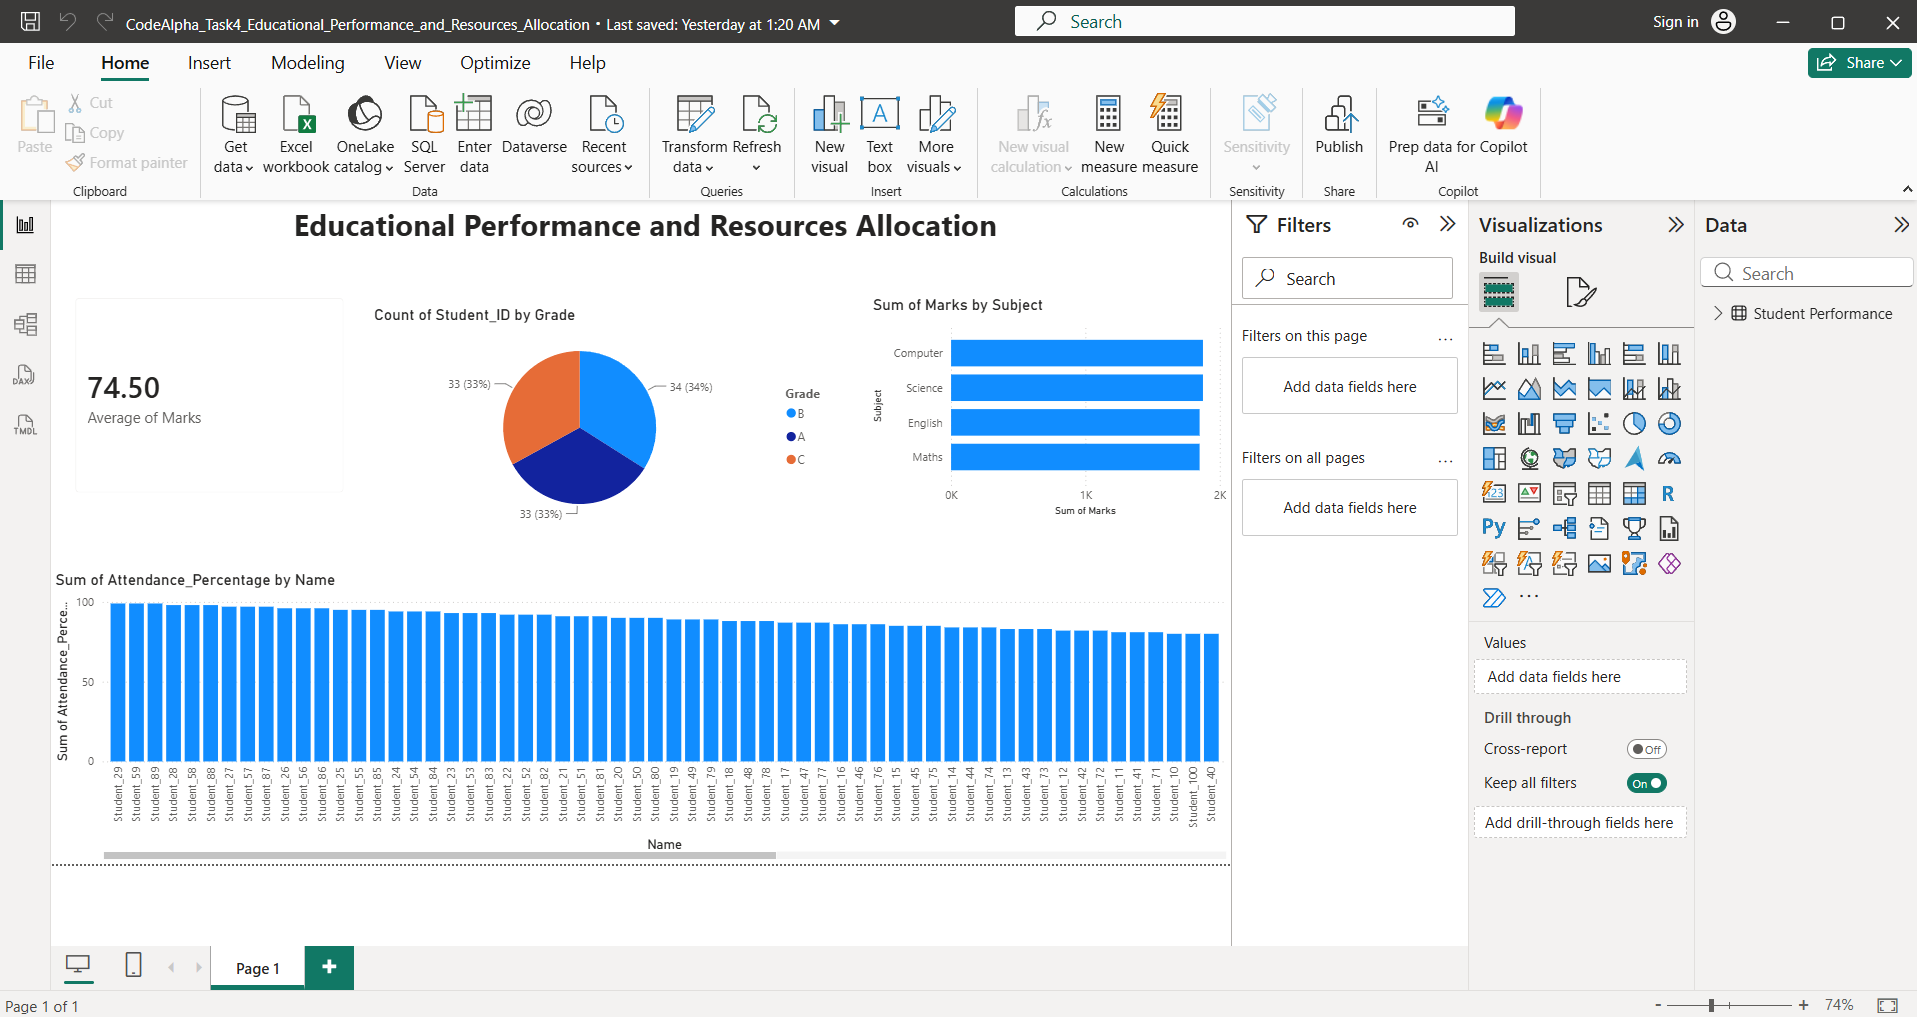

Layout of this report page (visuals, bound fields, positions):
{"tool":"powerbi","page":{"name":"Page 1","canvas":[1280,720],"ordinal":0},"visuals":[{"type":"textbox","box":[9.6,0,1270.7,89.2],"z":0},{"type":"cardVisual","fields":{"Data":["Avg(Student Performance.Marks)"]},"box":[9.6,89.2,325.2,245.6],"z":1000},{"type":"clusteredBarChart","fields":{"Y":["Sum(Student Performance.Marks)"],"Category":["Student Performance.Subject"]},"box":[887,103.1,393.3,245.5],"z":1001},{"type":"pieChart","fields":{"Y":["CountNonNull(Student Performance.Student_ID)"],"Category":["Student Performance.Grade"]},"box":[345.8,113.9,514,245.5],"z":1002},{"type":"columnChart","fields":{"Y":["Sum(Student Performance.Attendance_Percentage)"],"Category":["Student Performance.Name"]},"box":[0,401.4,1280.3,318.7],"z":1003}]}

Visuals, with their boxes on the page's 1280x720 design canvas (x1, y1, x2, y2). These are canvas units, not pixel positions in the 1917x1017 screenshot, which may show the page scaled, cropped or inside an application window:
textbox: <box>10,0,1280,89</box>
cardVisual - Avg(Student Performance.Marks): <box>10,89,335,335</box>
clusteredBarChart - Sum(Student Performance.Marks) x Student Performance.Subject: <box>887,103,1280,349</box>
pieChart - CountNonNull(Student Performance.Student_ID) x Student Performance.Grade: <box>346,114,860,359</box>
columnChart - Sum(Student Performance.Attendance_Percentage) x Student Performance.Name: <box>0,401,1280,720</box>
